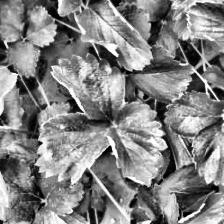Powdery Mildew Leaf: (34, 112, 114, 184), (74, 0, 154, 72), (49, 52, 127, 122), (104, 102, 168, 186), (175, 190, 223, 224), (46, 0, 84, 17)
